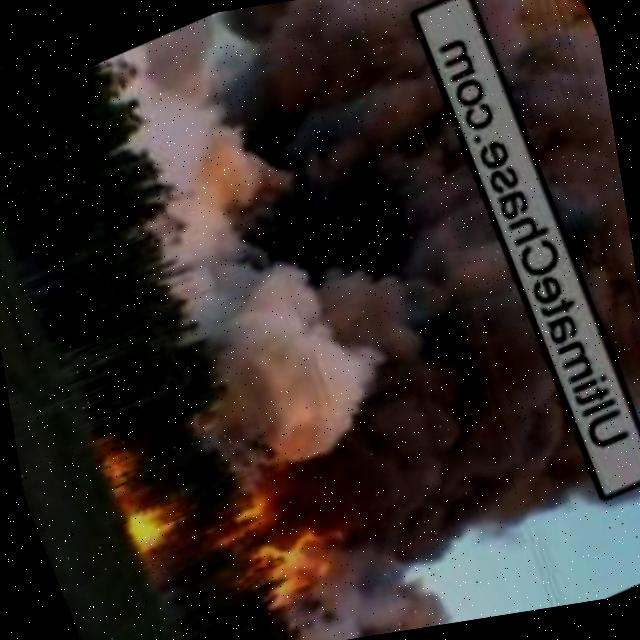fire: (239, 504, 381, 620), (126, 494, 190, 554), (224, 494, 282, 542), (98, 438, 140, 485)
